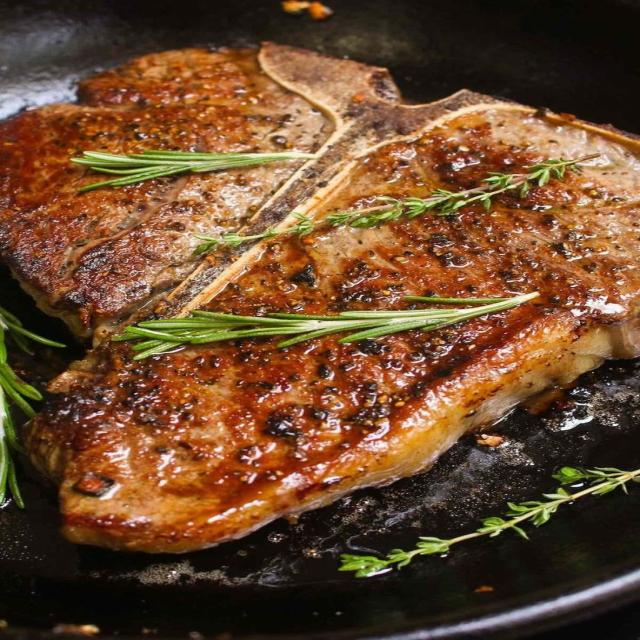beef steak: (2, 43, 639, 552)
